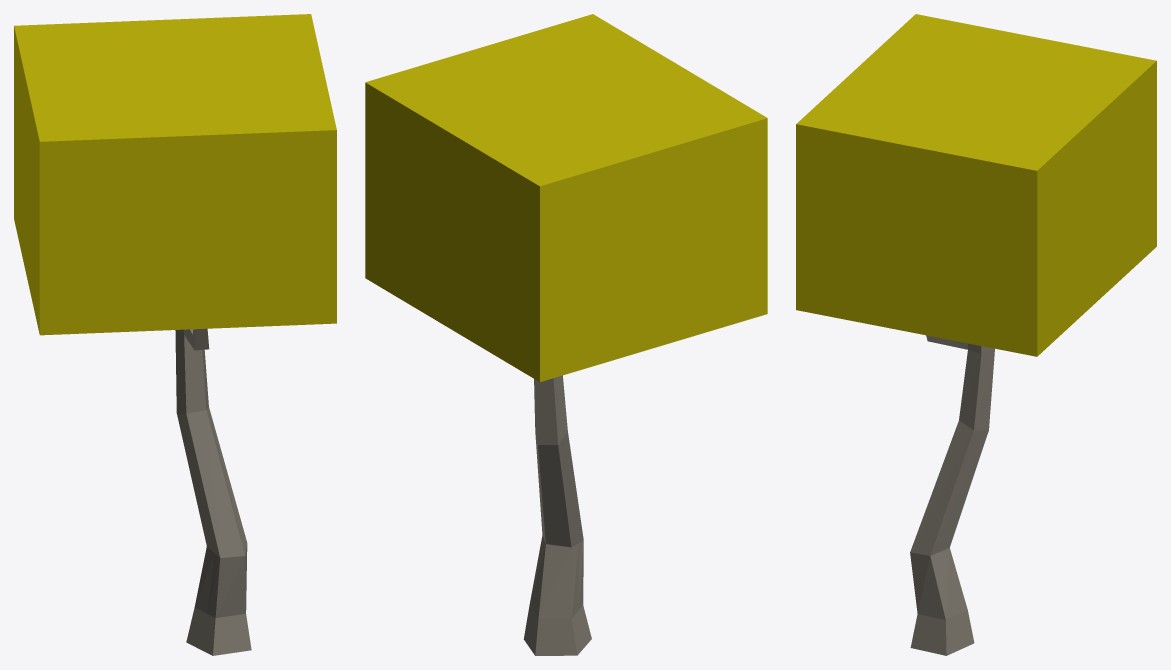
The model's file is tree_test.fbx.
3 renders of one model, left to right at view 1: azimuth 30°, elevation 25°; view 2: azimuth 150°, elevation 25°; view 3: azimuth 270°, elevation 25°, orthographic. The views are drawn at different scales.
Parts seen in each view (by area): view 1: Outer_Cube, Trunk; view 2: Outer_Cube, Trunk; view 3: Outer_Cube, Trunk.
Boxes of the visible parts, x1=… form: Outer_Cube: x1=14, y1=14, x2=336, y2=335; Trunk: x1=175, y1=328, x2=251, y2=655; Outer_Cube: x1=365, y1=14, x2=767, y2=381; Trunk: x1=523, y1=375, x2=591, y2=655; Outer_Cube: x1=796, y1=14, x2=1156, y2=356; Trunk: x1=910, y1=335, x2=994, y2=655.
Bounding box in the file's own units: 136 × 217 × 132.
